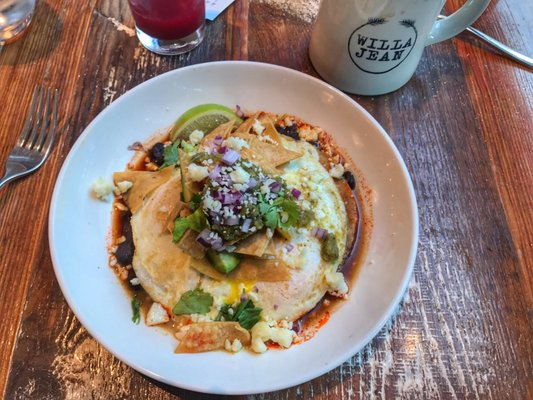pizza: (128, 0, 206, 56)
sushi: (74, 67, 420, 392)
